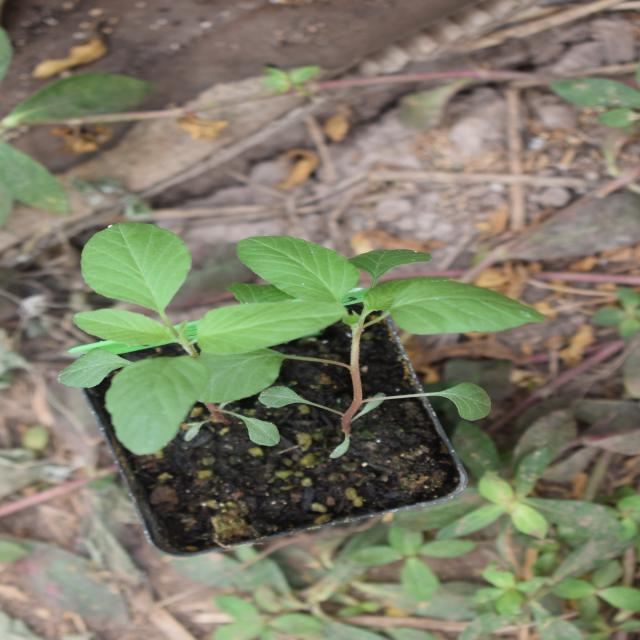pigweed: (167, 59, 431, 291), (231, 196, 420, 496)
